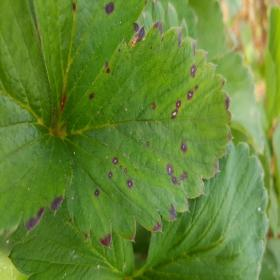Leaf Spot: (59, 20, 234, 249), (33, 0, 148, 128)
